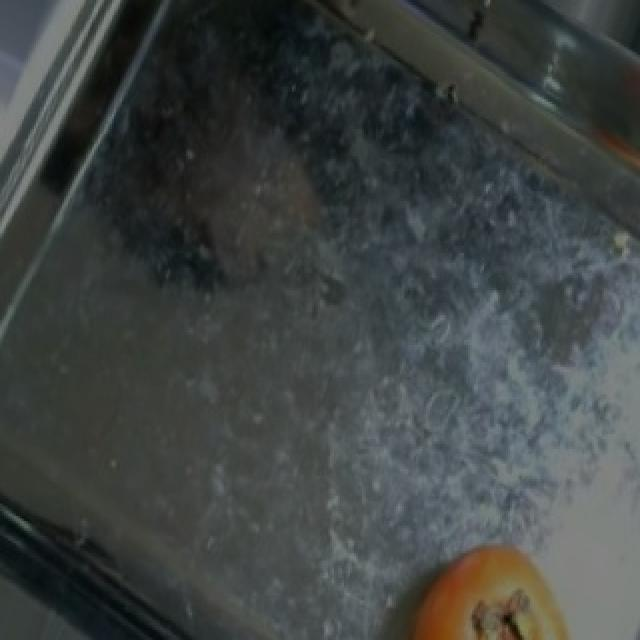Fruit: (384, 526, 590, 640)
